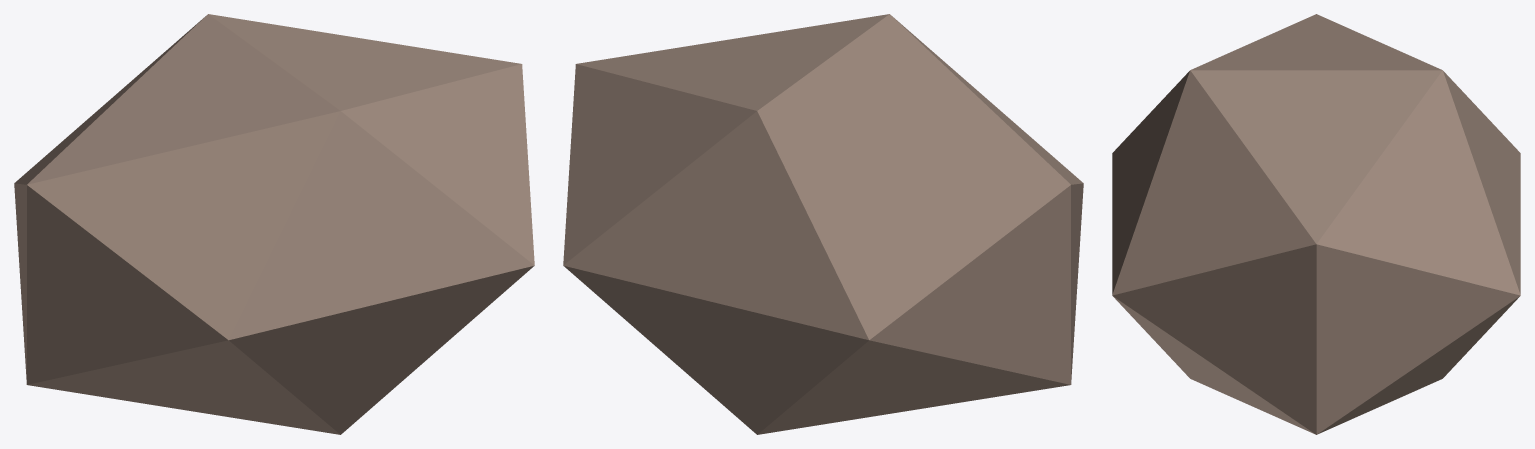
Rendered from boulder.glb.
The picture shows the model from 3 angles, left to right: view 1: azimuth 30°, elevation 25°; view 2: azimuth 150°, elevation 25°; view 3: azimuth 270°, elevation 25°; orthographic projection. The views are drawn at different scales.
Visible parts, largest first — view 1: Boulder; view 2: Boulder; view 3: Boulder.
Part boxes in pixels (x1,y1,x2,y2): Boulder: [14, 14, 534, 434]; Boulder: [563, 14, 1083, 434]; Boulder: [1112, 14, 1520, 434].
Bounding box in the file's own units: 1.02 × 0.638 × 0.7656.
